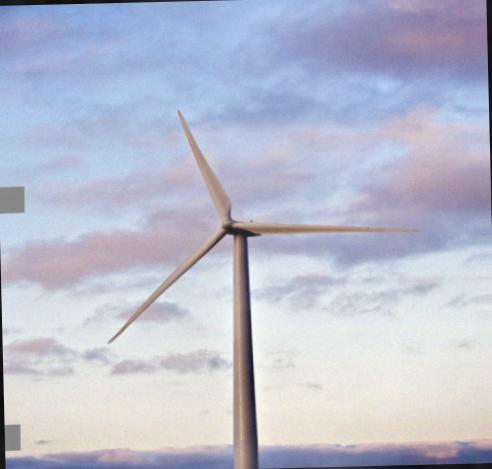wind turbine: (103, 108, 420, 469)
